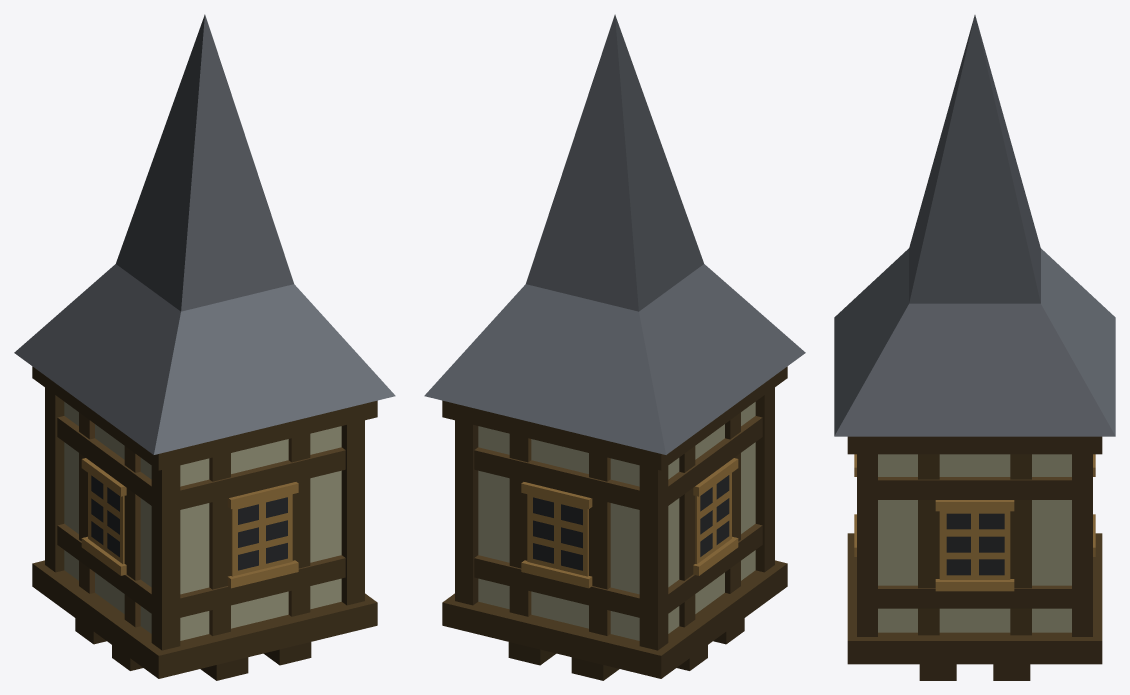
File: SF_Bld_Castle_TowerRoom_01.fbx
The picture shows the model from 3 angles, left to right: view 1: azimuth 30°, elevation 25°; view 2: azimuth 150°, elevation 25°; view 3: azimuth 270°, elevation 25°; orthographic projection.
Parts seen in each view (by area): view 1: SF_Bld_Castle_TowerRoom_01; view 2: SF_Bld_Castle_TowerRoom_01; view 3: SF_Bld_Castle_TowerRoom_01.
Boxes of the visible parts, bbox=[...] form: SF_Bld_Castle_TowerRoom_01: bbox=[14, 14, 395, 680]; SF_Bld_Castle_TowerRoom_01: bbox=[424, 14, 805, 680]; SF_Bld_Castle_TowerRoom_01: bbox=[834, 15, 1115, 680].
Bounding box in the file's own units: 6.88 × 16.61 × 6.88.
